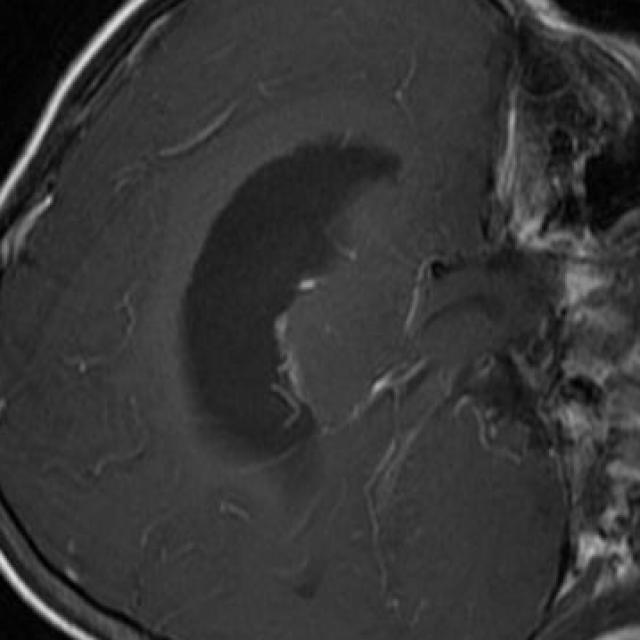glioma: (185, 132, 403, 476)
